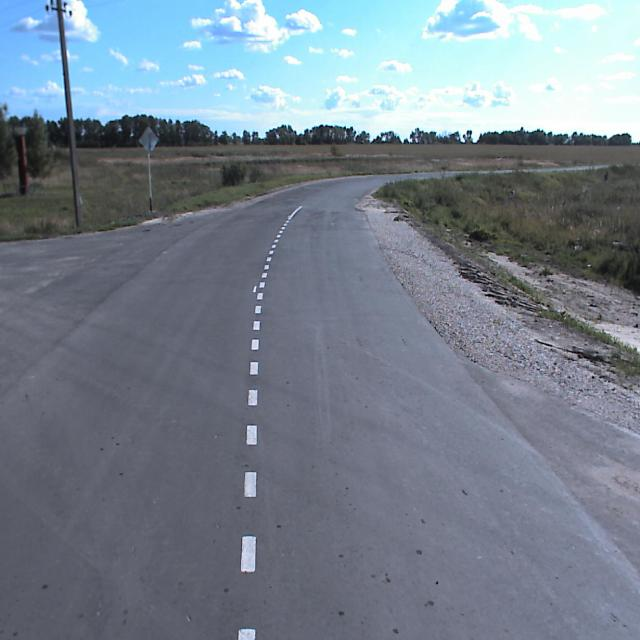road: (0, 171, 639, 639)
